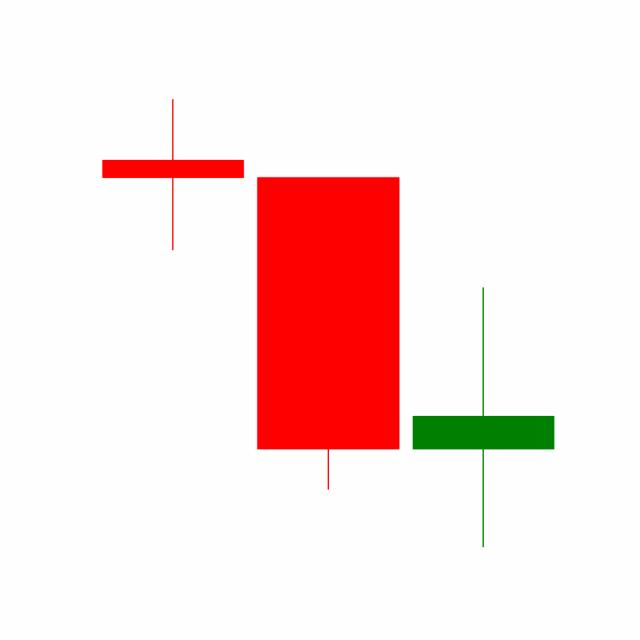Spinning Top: (405, 284, 561, 550)
